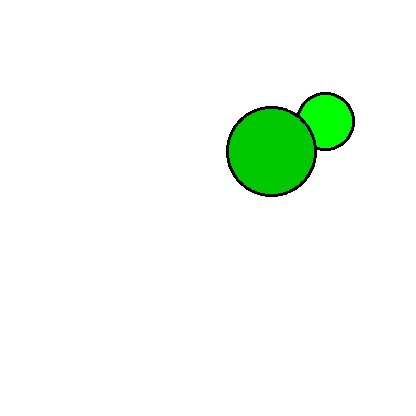circle: (227, 101, 315, 202), (297, 64, 353, 178)
